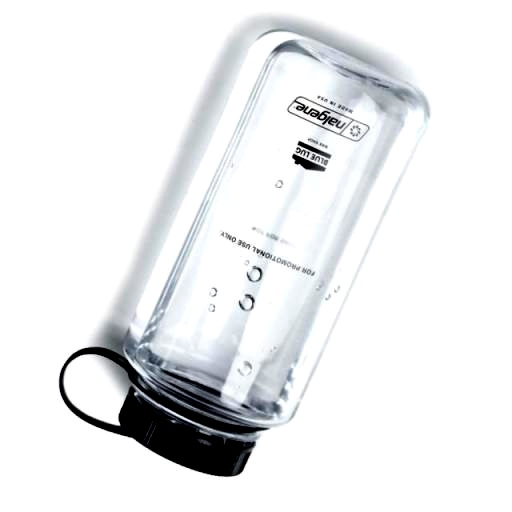bottle: (57, 37, 429, 478)
